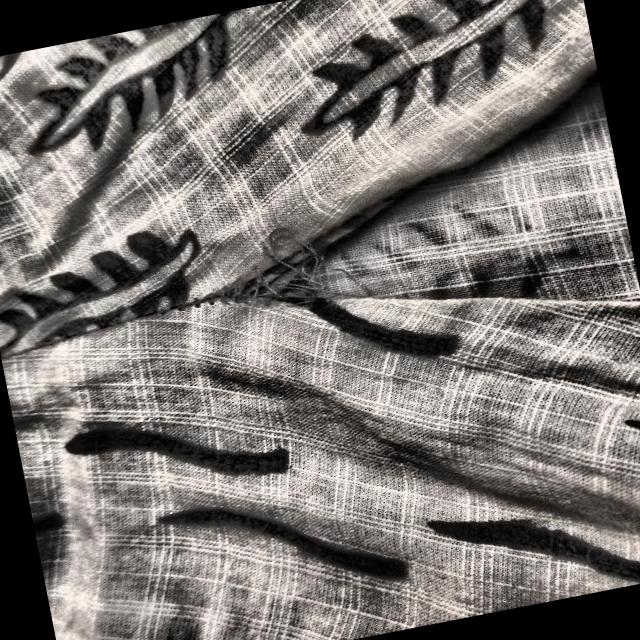gray stitch: (178, 190, 504, 376)
